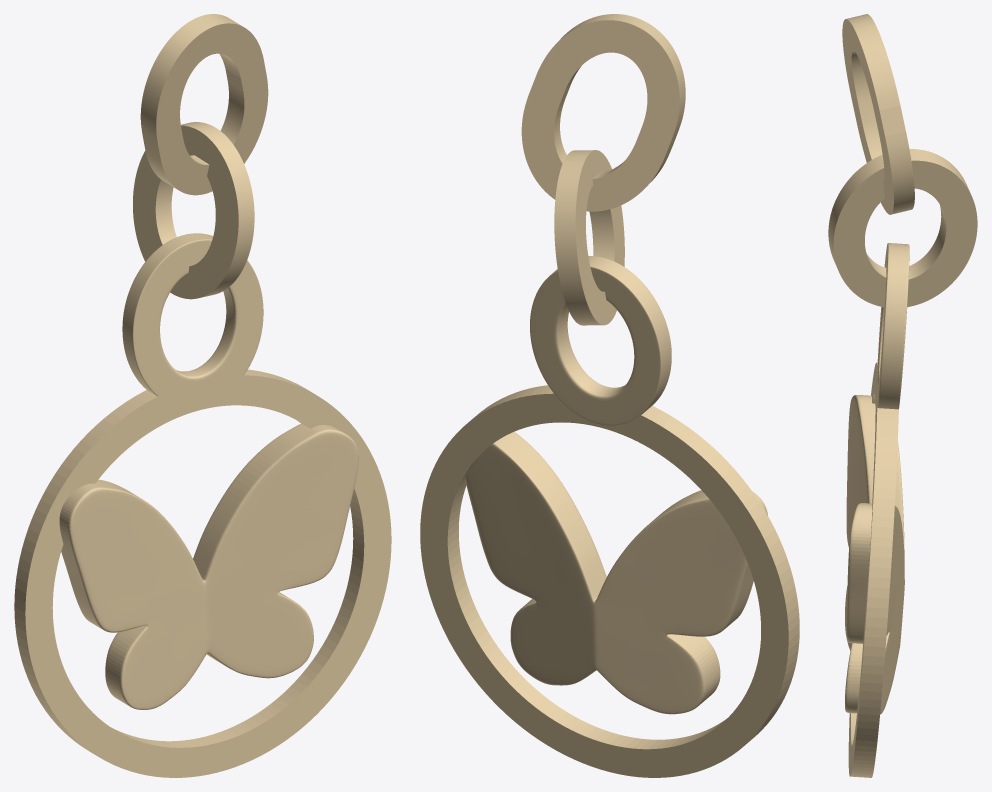
File: motyl-tripple-chain-bigger-export.glb
3 views of the same model, side by side, from view 1: azimuth 30°, elevation 25°; view 2: azimuth 150°, elevation 25°; view 3: azimuth 270°, elevation 25° (orthographic). The views are drawn at different scales.
Visible parts, largest first — view 1: Butterfly, Circle, Curve.005, Curve.001, Curve.006; view 2: Butterfly, Circle, Curve.005, Curve.001, Curve.006; view 3: Curve.006, Butterfly, Circle, Curve.005, Curve.001.
Part boxes in pixels (x1,y1,x2,y2): Butterfly: (59, 423, 358, 709); Circle: (14, 369, 391, 777); Curve.005: (140, 14, 268, 195); Curve.001: (122, 233, 263, 396); Curve.006: (133, 122, 254, 299); Butterfly: (465, 431, 767, 714); Circle: (420, 385, 799, 777); Curve.005: (521, 14, 685, 211); Curve.001: (530, 256, 671, 425); Curve.006: (554, 150, 624, 325); Curve.006: (828, 149, 977, 307); Butterfly: (845, 395, 904, 714); Circle: (848, 362, 898, 777); Curve.005: (842, 14, 914, 214); Curve.001: (877, 243, 909, 409).
Bounding box in the file's own units: 0.1517 × 0.297 × 0.0545.
